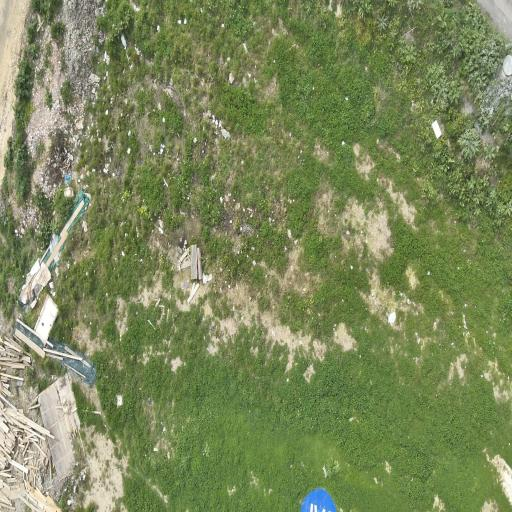UAP: (301, 489, 336, 511)
